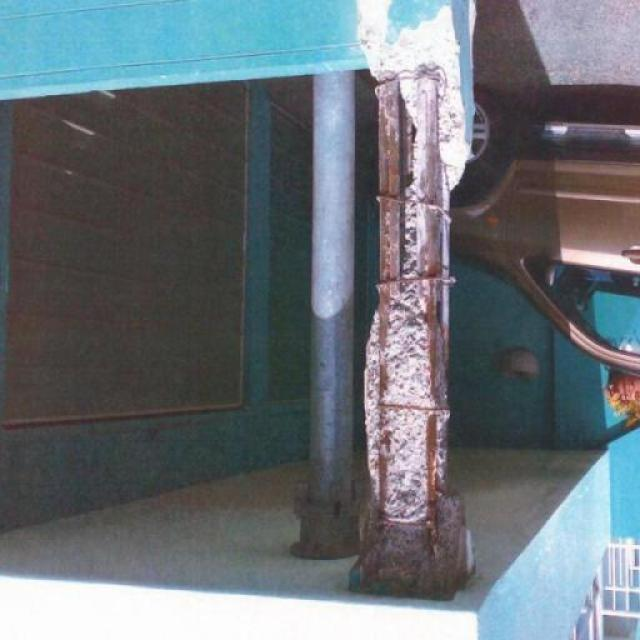D0w0: (349, 0, 476, 602)
